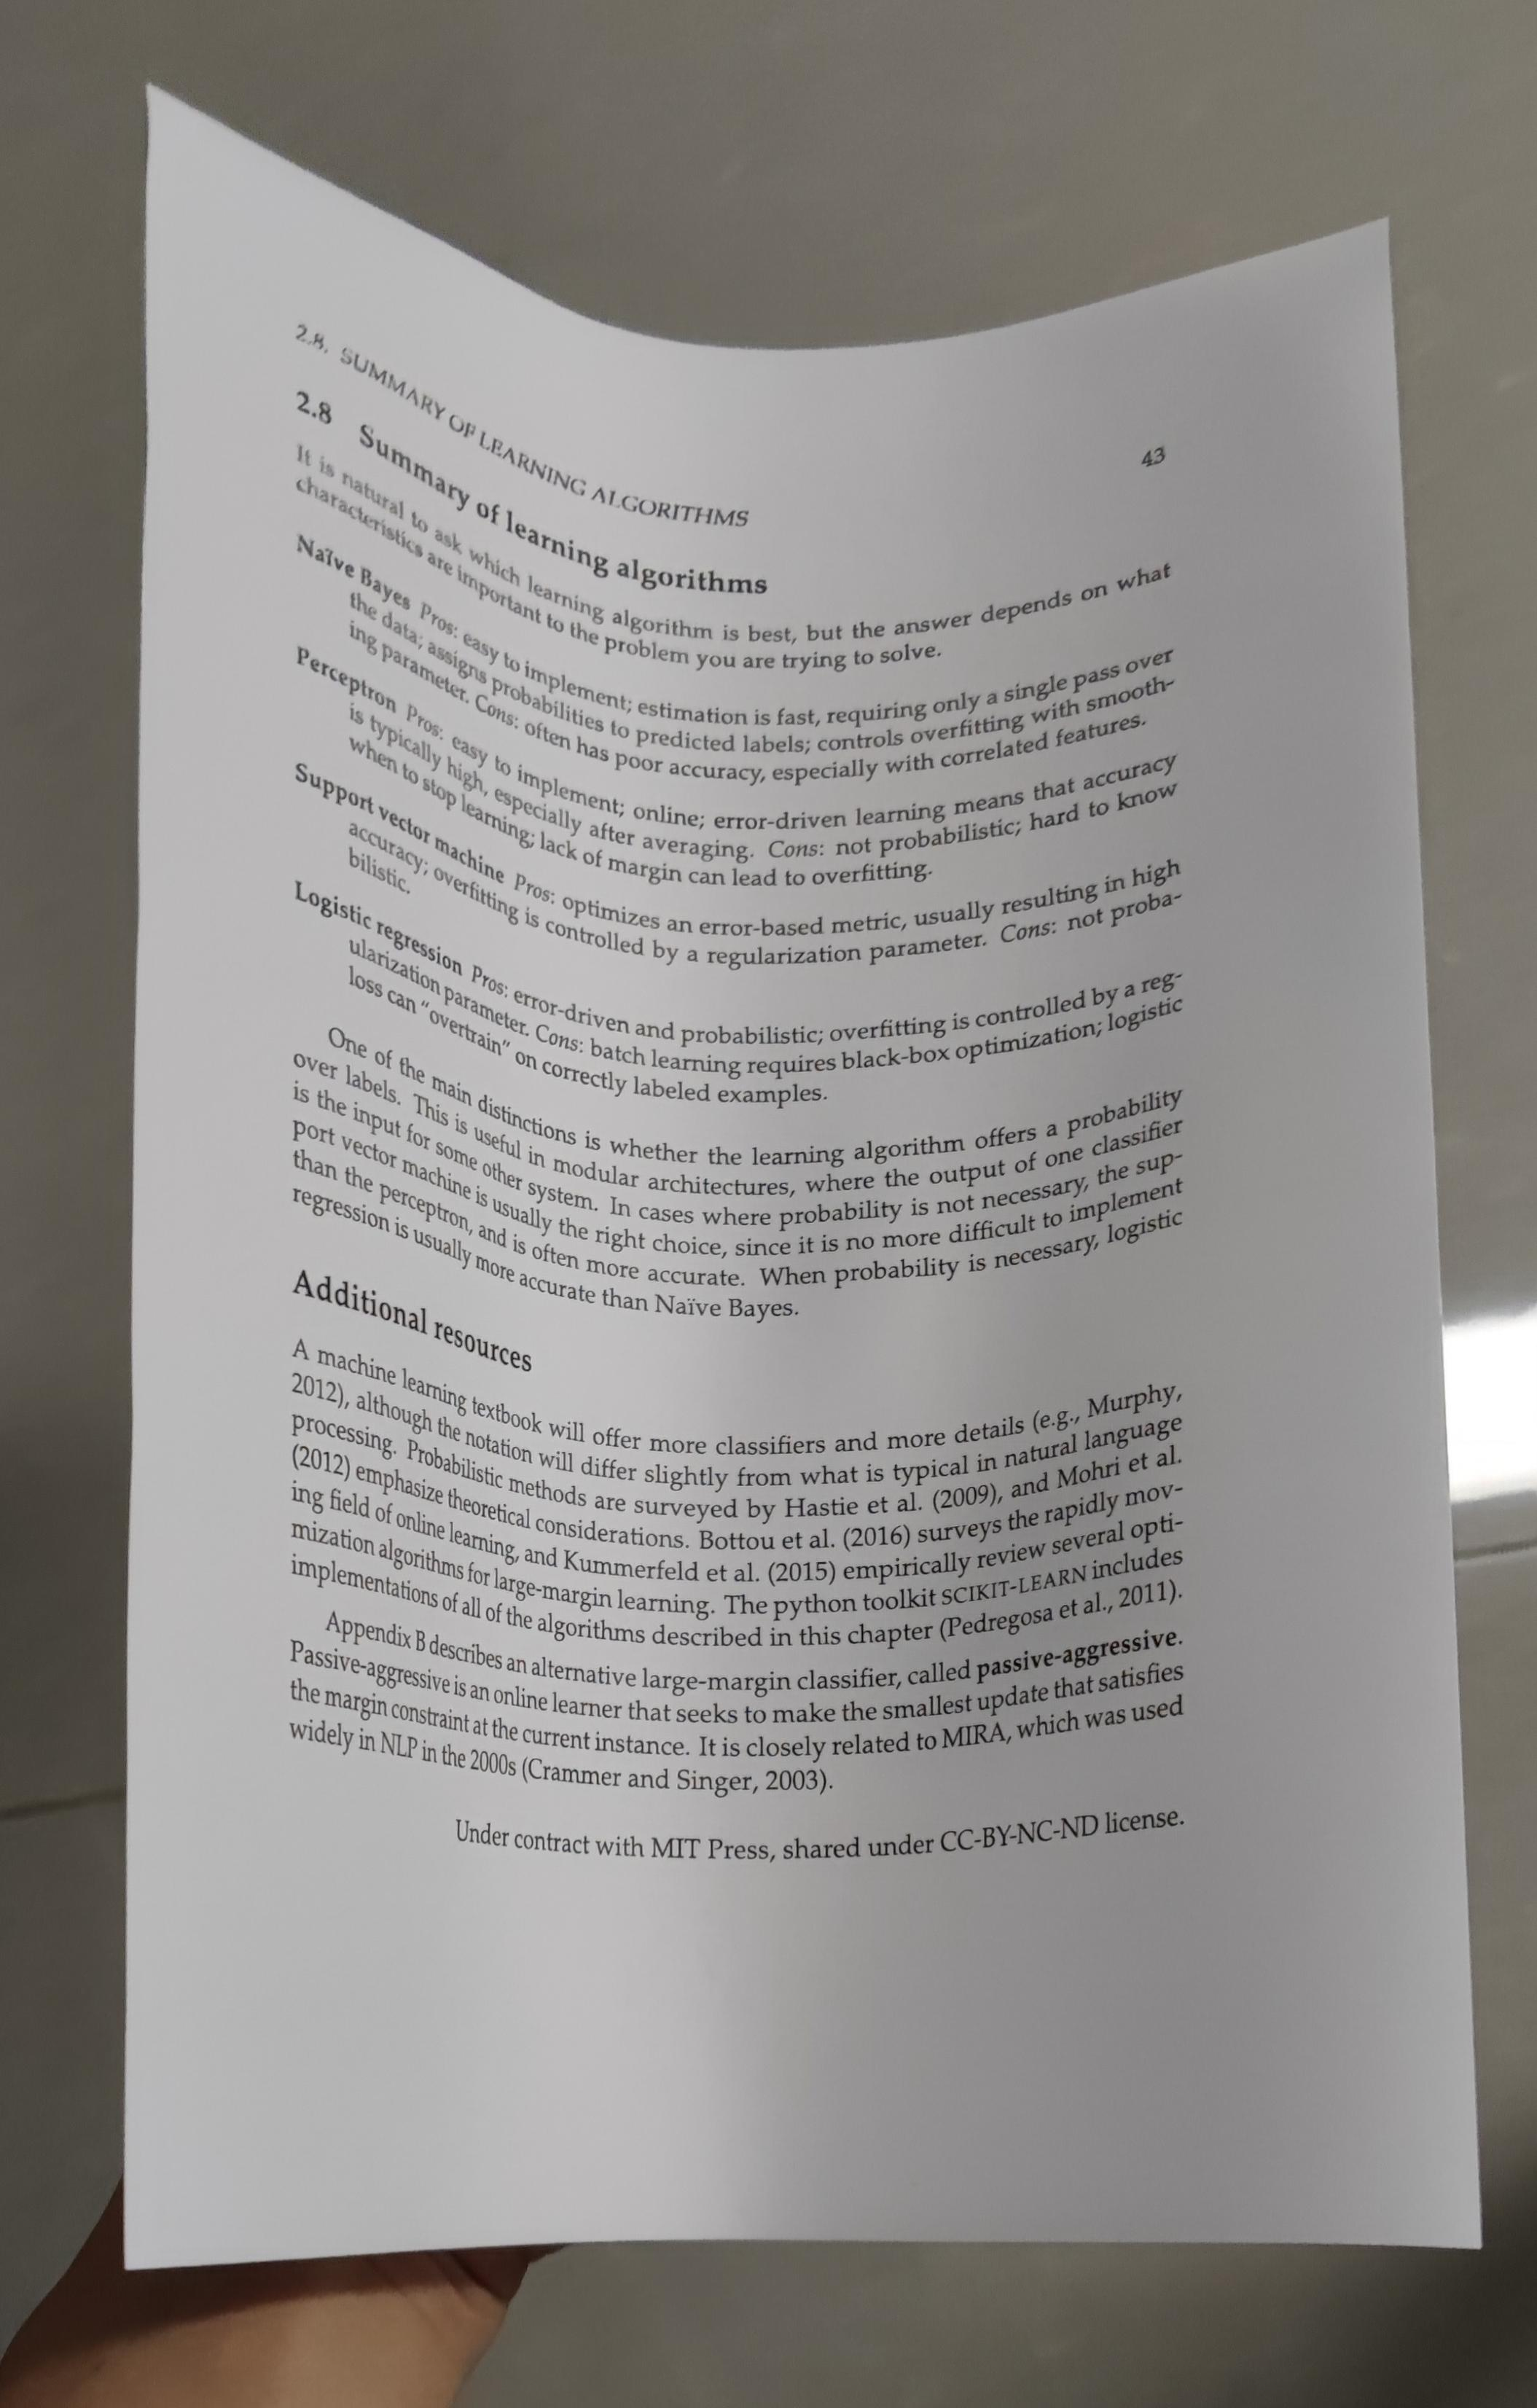paper: (29, 40, 1537, 2408)
